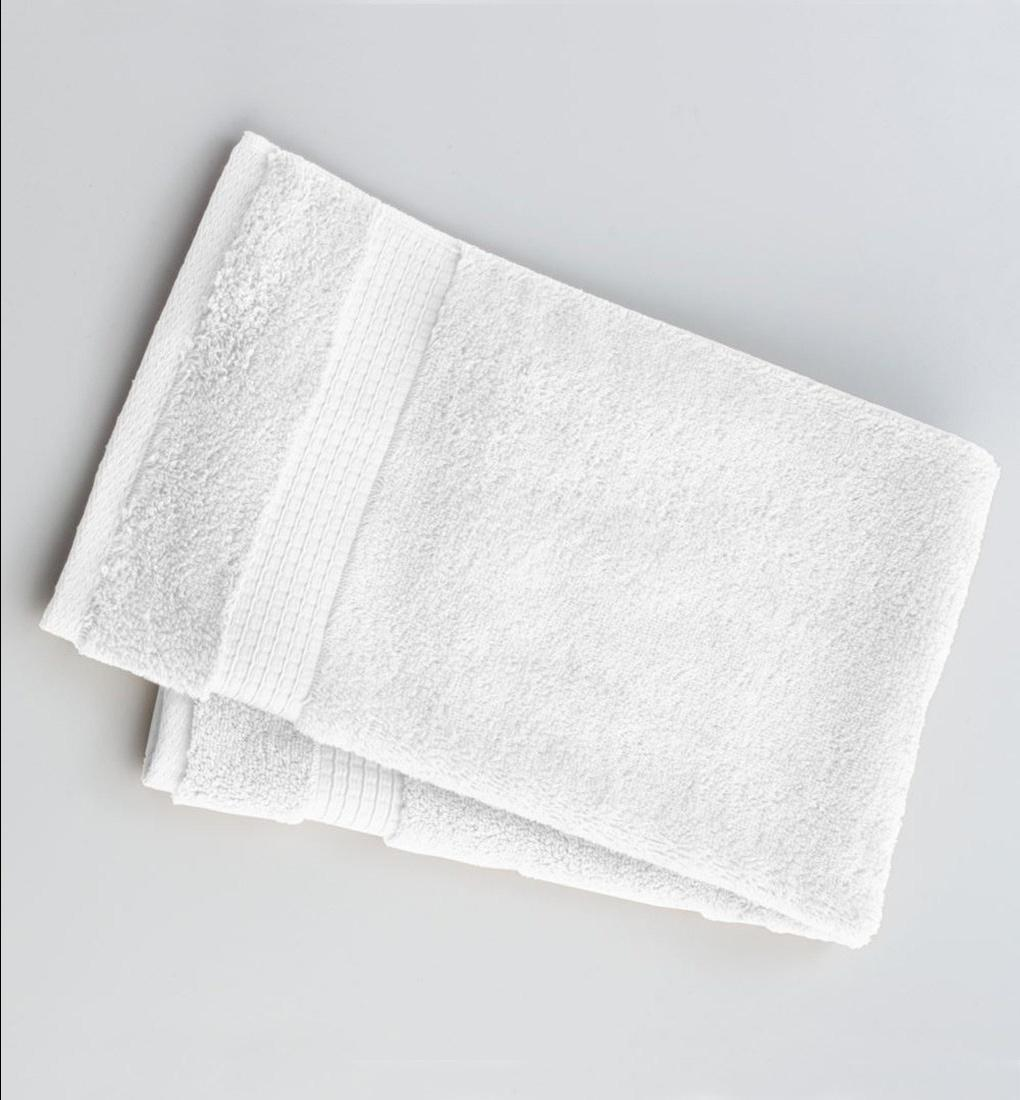towel: (40, 145, 1020, 1028)
